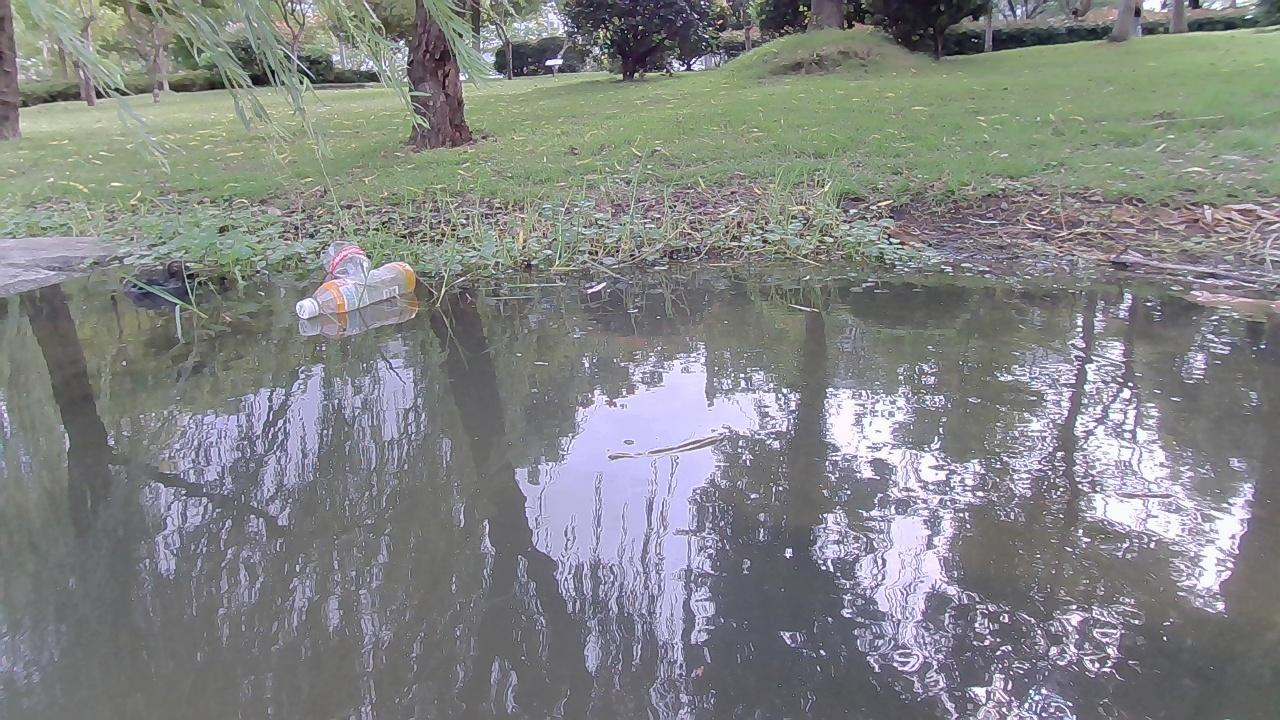bottle: (293, 261, 421, 321), (322, 237, 376, 277)
